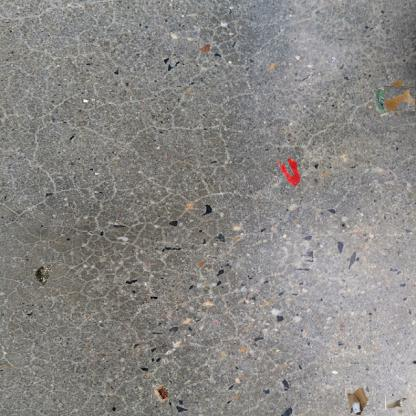dirty: (343, 386, 374, 416), (373, 86, 391, 118), (33, 264, 53, 288), (150, 384, 170, 402), (388, 394, 406, 413)
liquid: (387, 83, 416, 114), (276, 158, 302, 186)
